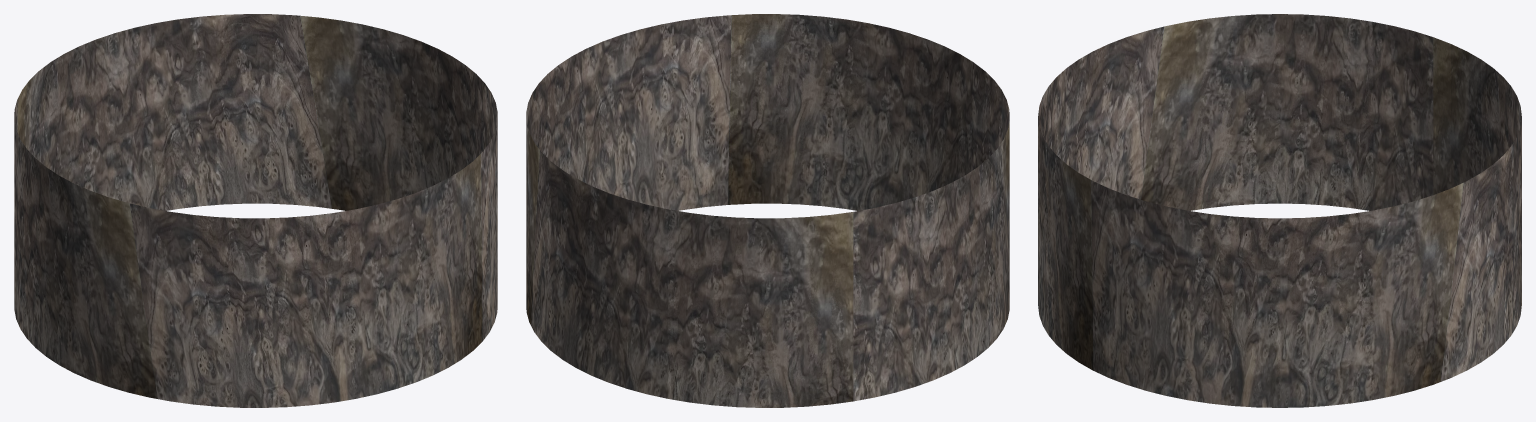
File: 16stave.glb
3 views of the same model, side by side, from view 1: azimuth 30°, elevation 25°; view 2: azimuth 150°, elevation 25°; view 3: azimuth 270°, elevation 25° (orthographic).
Visible parts, largest first — view 1: Cylinder; view 2: Cylinder; view 3: Cylinder.
Part boxes in pixels (left/top/right/bottom): Cylinder: left=14, top=14, right=497, bottom=407; Cylinder: left=526, top=14, right=1009, bottom=407; Cylinder: left=1038, top=14, right=1521, bottom=407.
Size of the model in its own units: 0.3524 by 0.1524 by 0.3524.
Materials: 1 (1 with a texture image).
